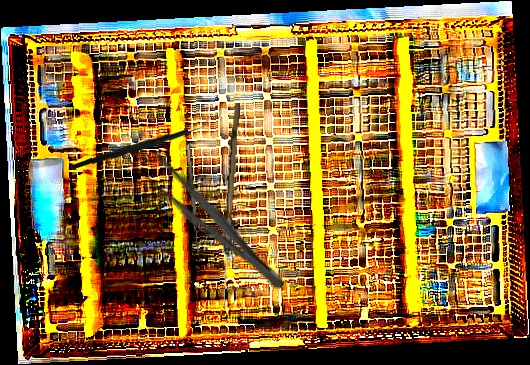Chopper: (71, 109, 209, 177)
Dressing Forceps: (122, 140, 294, 298)
Hook Surgical: (186, 143, 206, 260)
Surgical Spoon: (219, 102, 241, 304)
